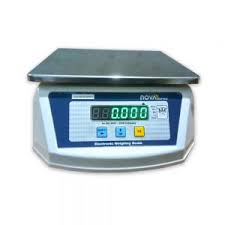Industrial Scale: (27, 48, 201, 171)
